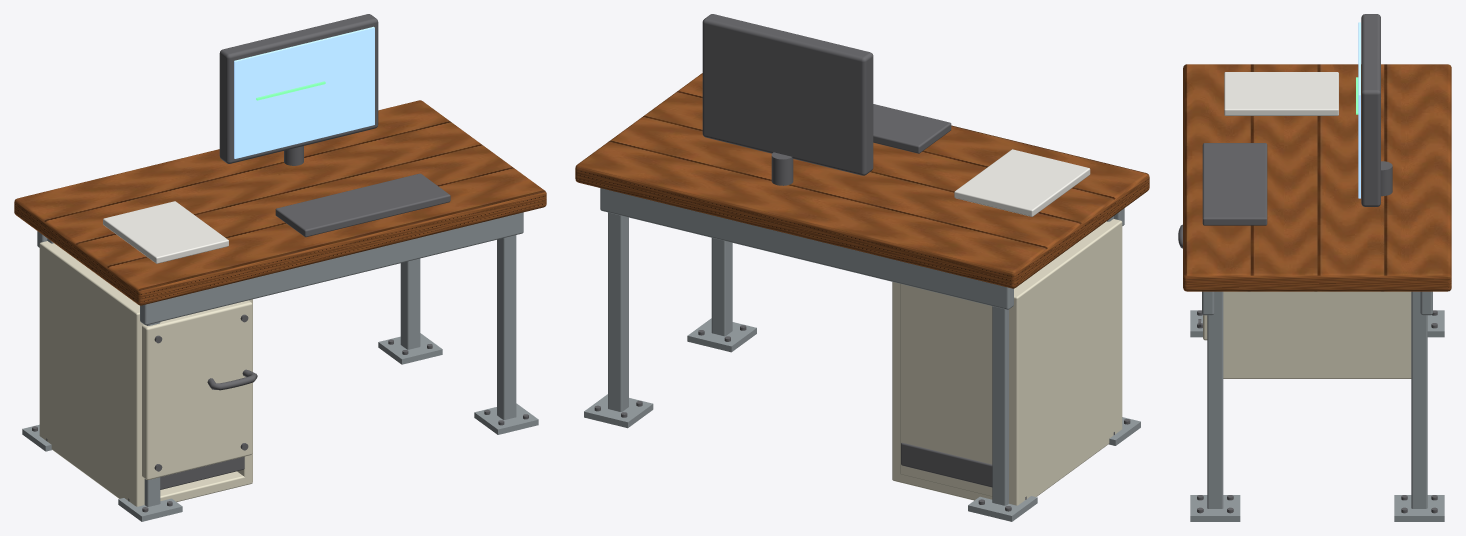
Rendered from prison-complex-builder-office-desk-f282f46f__25681.glb.
The picture shows the model from 3 angles, left to right: view 1: azimuth 30°, elevation 25°; view 2: azimuth 150°, elevation 25°; view 3: azimuth 270°, elevation 25°; orthographic projection. The views are drawn at different scales.
Parts seen in each view (by area): view 1: office-desk, door-1/paintCream, door-1/steelDark; view 2: office-desk; view 3: office-desk.
Part boxes in pixels (<box>): office-desk: <box>14,14,546,521</box>; door-1/paintCream: <box>142,300,252,479</box>; door-1/steelDark: <box>154,314,257,471</box>; office-desk: <box>575,14,1149,521</box>; office-desk: <box>1183,14,1451,521</box>.
Size of the model in its own units: 1.4 by 1.2 by 0.7636.
Materials: 8 (1 with a texture image).
